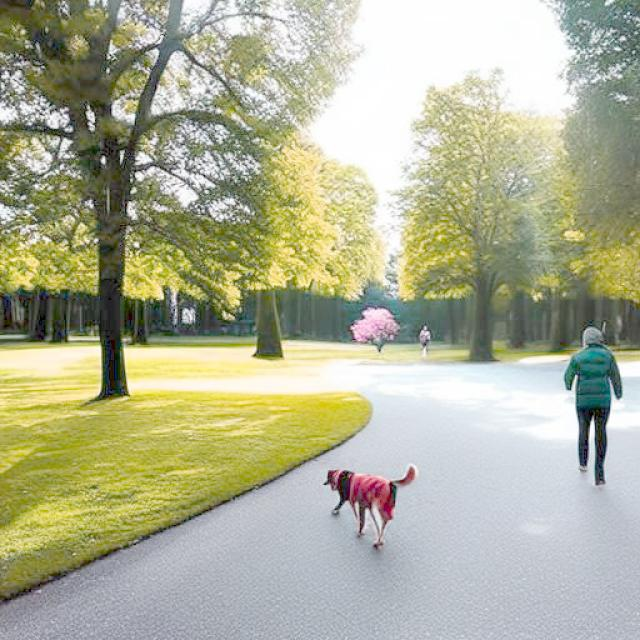Unleashed_Dog: (322, 404, 612, 550)
